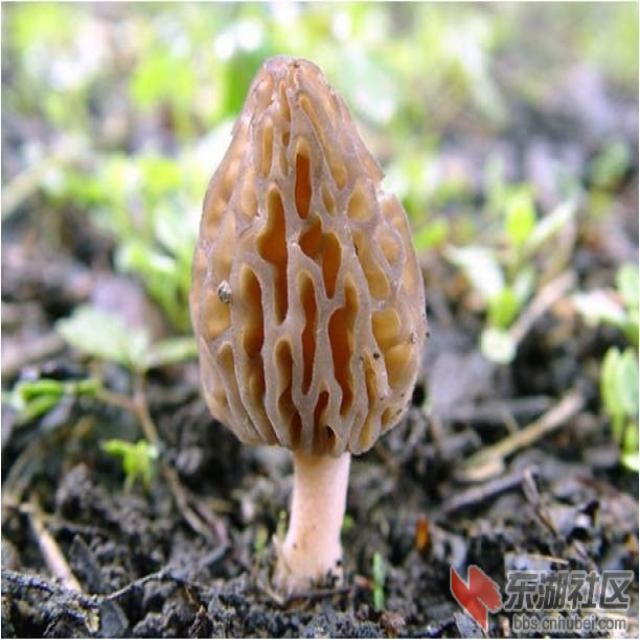Morchella esculenta: (193, 58, 428, 586)
